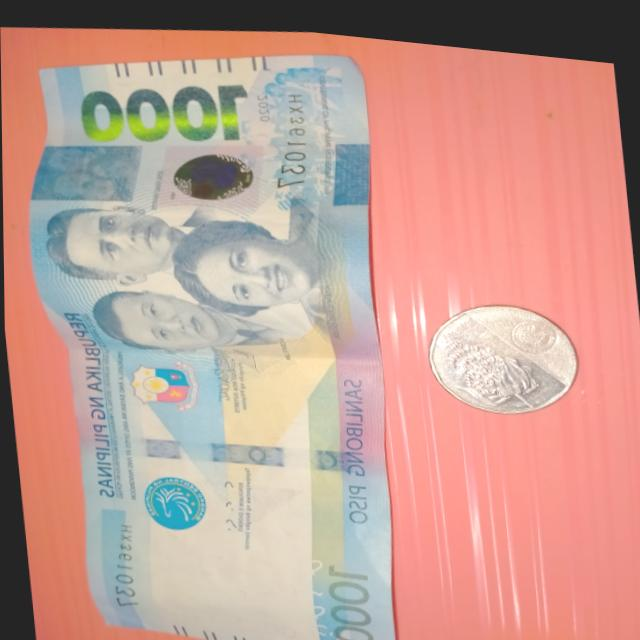concealed_value: (25, 131, 152, 212)
optically_variable_device: (148, 128, 276, 213)
security_thread: (81, 411, 377, 493)
see_through_mark: (283, 532, 336, 640)
